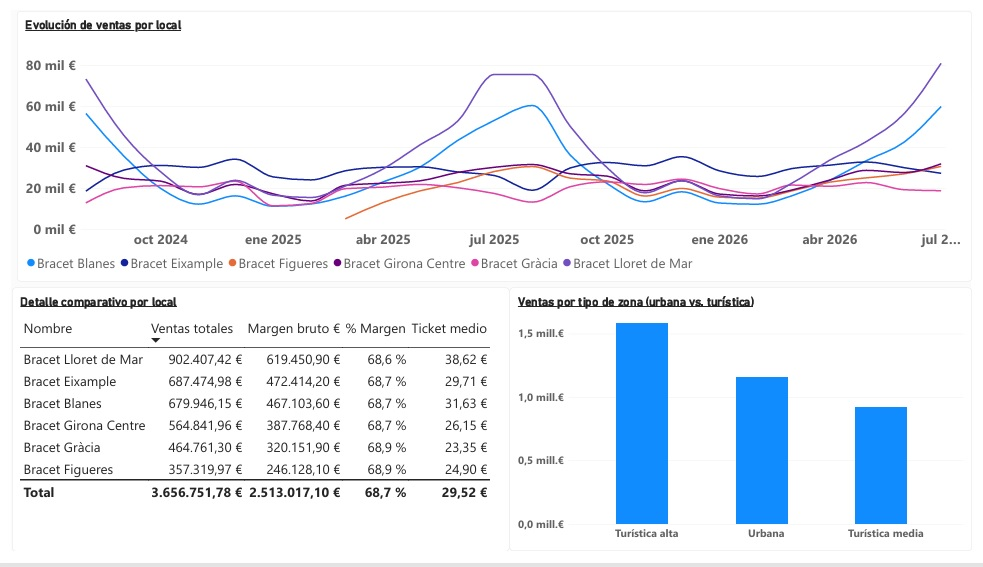

What the dashboard file says about the page in this screenshot:
{"tool":"powerbi","page":{"name":"Comparativa locales","canvas":[1920,1080],"ordinal":1},"visuals":[{"type":"lineChart","title":"Evolución de ventas por local","fields":{"Category":["dim_calendario.Año_mes"],"Y":["Medidas.Ventas totales"],"Series":["dim_locales.nombre"]},"box":[9.8,0,1910.2,540.8],"z":0},{"type":"tableEx","title":"Detalle comparativo por local","fields":{"Values":["dim_locales.nombre","Medidas.Ventas totales","Medidas.Margen bruto €","Medidas.% Margen","Medidas.Ticket medio"]},"box":[0,552.8,994.6,528.1],"z":1000},{"type":"columnChart","title":"Ventas por tipo de zona (urbana vs. turística)","fields":{"Category":["dim_locales.tipo_zona"],"Y":["Medidas.Ventas totales"]},"box":[995,553,925,527],"z":2000}]}

Visuals, with their boxes in screenshot pixels (x1, y1, x2, y2), scaled from the page's 1920x1080 canvas onto the 983x567 screenshot:
"Evolución de ventas por local" lineChart: crop(5, 0, 982, 284)
"Detalle comparativo por local" tableEx: crop(0, 290, 509, 566)
"Ventas por tipo de zona (urbana vs. turística)" columnChart: crop(509, 290, 982, 566)
